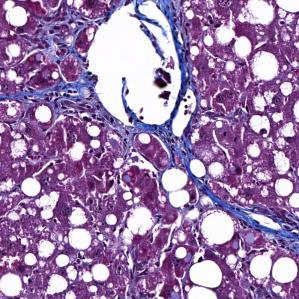fibrosis: (22, 19, 97, 113), (228, 203, 297, 245), (145, 124, 197, 166)
